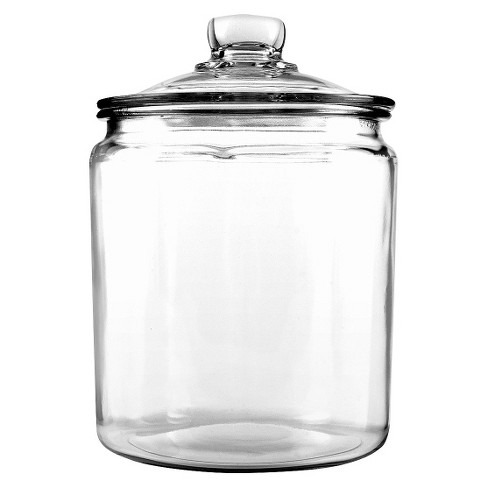container: (84, 11, 409, 475)
